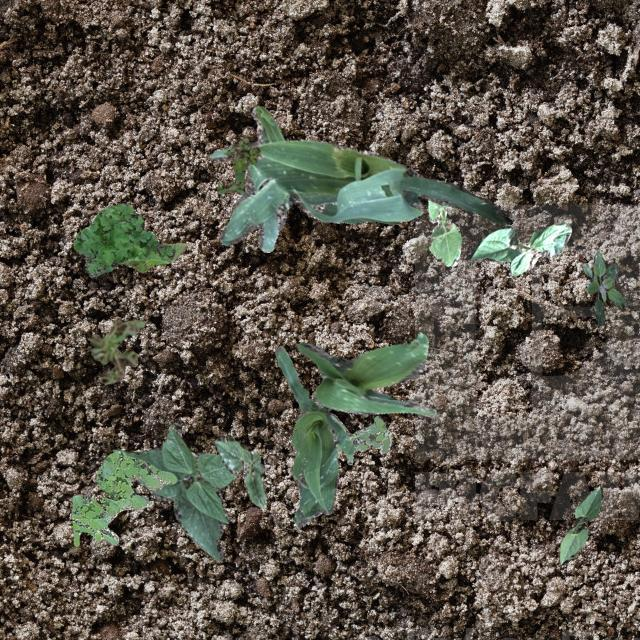crop: (209, 105, 512, 252), (122, 422, 238, 560), (274, 346, 354, 526), (296, 332, 434, 416), (466, 222, 570, 274), (212, 436, 266, 506), (558, 486, 602, 564), (428, 198, 460, 266), (122, 242, 186, 272)
weed: (70, 450, 176, 546), (73, 202, 174, 276), (86, 318, 144, 384), (580, 250, 626, 324), (328, 413, 391, 463), (216, 136, 260, 194)
